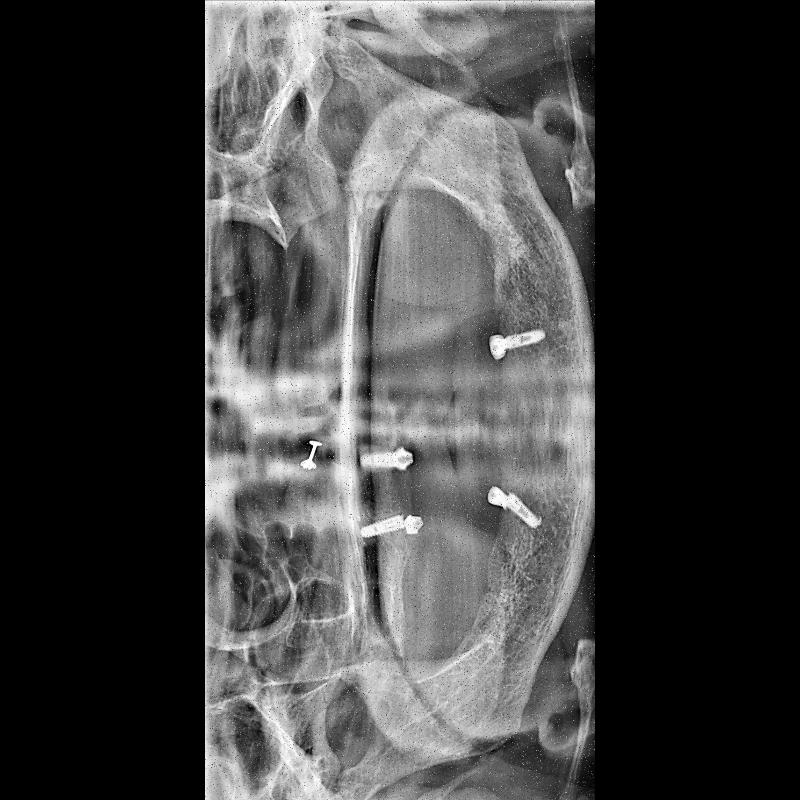osstem: (356, 513, 407, 543), (505, 492, 543, 528), (504, 326, 548, 352)
